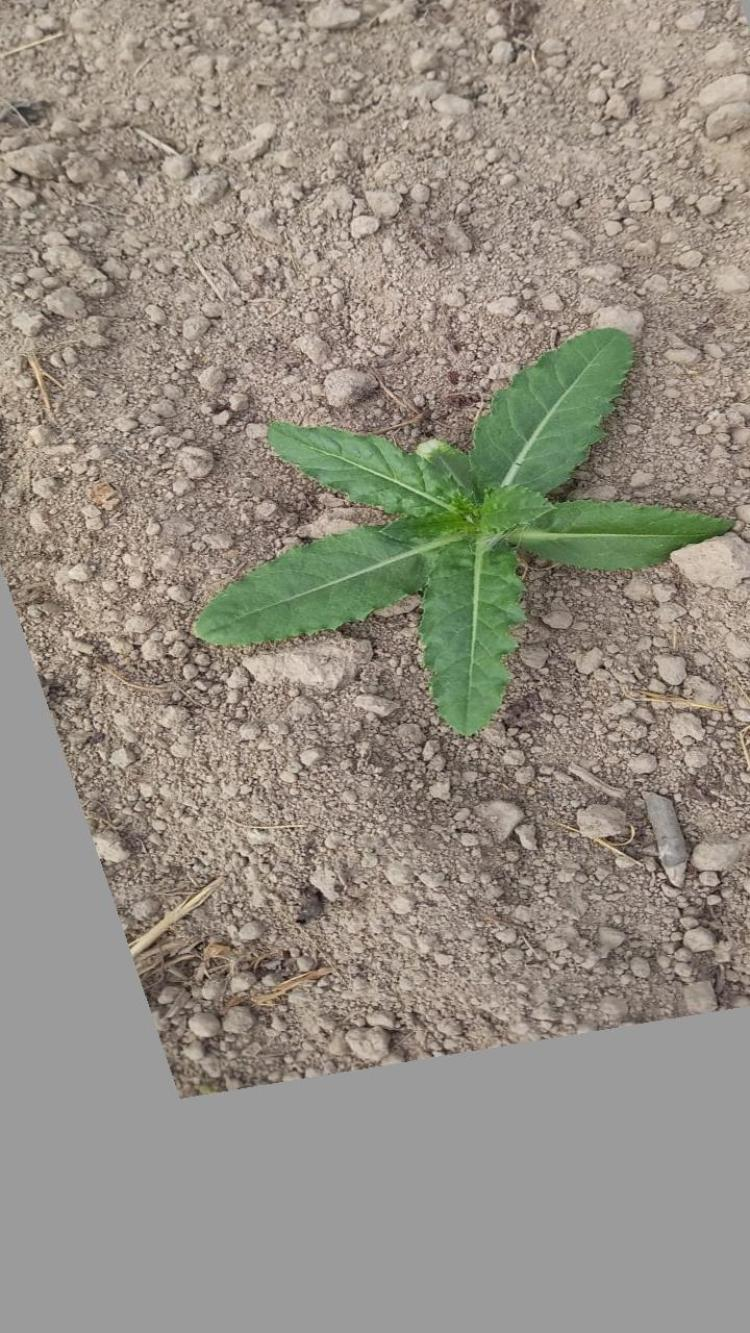osot: (188, 325, 740, 735)
